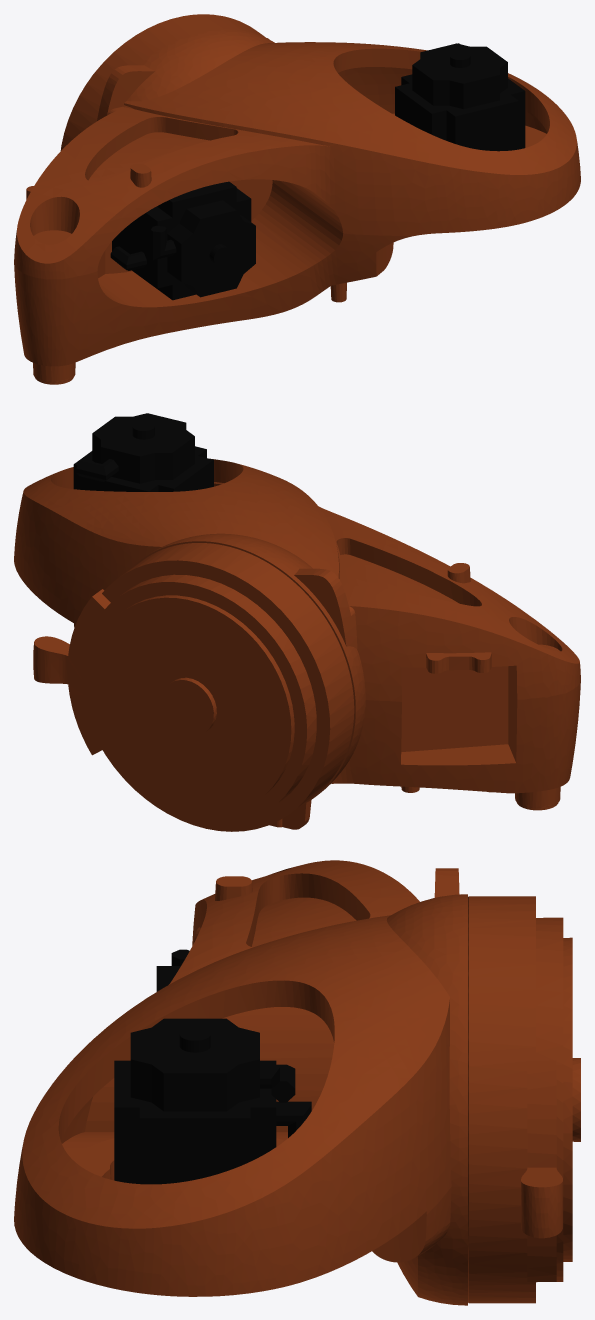
The picture shows the model from 3 angles, top to bottom: view 1: azimuth 30°, elevation 25°; view 2: azimuth 150°, elevation 25°; view 3: azimuth 270°, elevation 25°; orthographic projection. The views are drawn at different scales.
Parts seen in each view (by area): view 1: Link_1, Link_1_Motor1, Link_1_Motor2; view 2: Link_1, Link_1_Motor2; view 3: Link_1, Link_1_Motor2, Link_1_Motor1.
Part boxes in pixels (x1,y1,x2,y2): Link_1: [14, 14, 580, 384]; Link_1_Motor1: [110, 181, 255, 300]; Link_1_Motor2: [395, 43, 525, 151]; Link_1: [14, 458, 580, 831]; Link_1_Motor2: [73, 413, 213, 491]; Link_1: [14, 860, 580, 1305]; Link_1_Motor2: [114, 1018, 311, 1184]; Link_1_Motor1: [156, 949, 189, 991].
Size of the model in its own units: 1.08 by 0.5035 by 0.6752.
